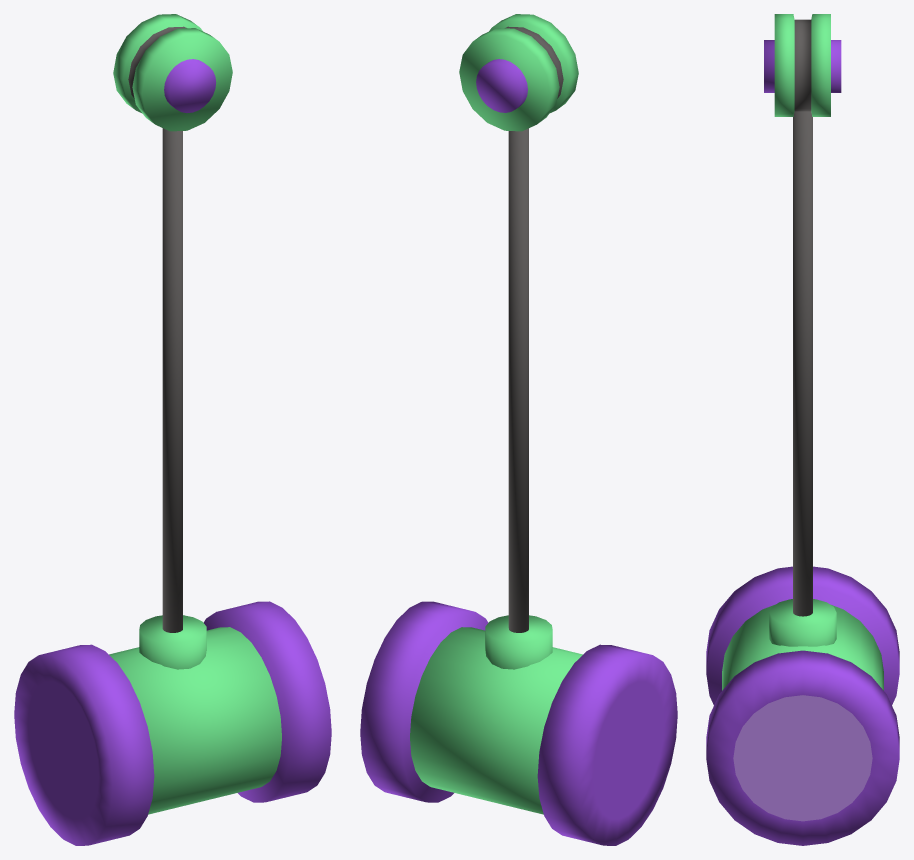
The model's file is Obstacle 4 V4.fbx.
The picture shows the model from 3 angles, left to right: view 1: azimuth 30°, elevation 25°; view 2: azimuth 150°, elevation 25°; view 3: azimuth 270°, elevation 25°; orthographic projection.
Parts seen in each view (by area): view 1: O4 Part 2, O4 Part 1; view 2: O4 Part 2, O4 Part 1; view 3: O4 Part 2, O4 Part 1.
Part boxes in pixels (<box>): O4 Part 2: <box>14,128,331,845</box>; O4 Part 1: <box>113,14,232,131</box>; O4 Part 2: <box>360,128,677,845</box>; O4 Part 1: <box>459,14,578,131</box>; O4 Part 2: <box>706,111,899,845</box>; O4 Part 1: <box>764,14,841,116</box>.
Bounding box in the file's own units: 54.61 × 188 × 42.49.
Materials: 1 (1 with a texture image).
